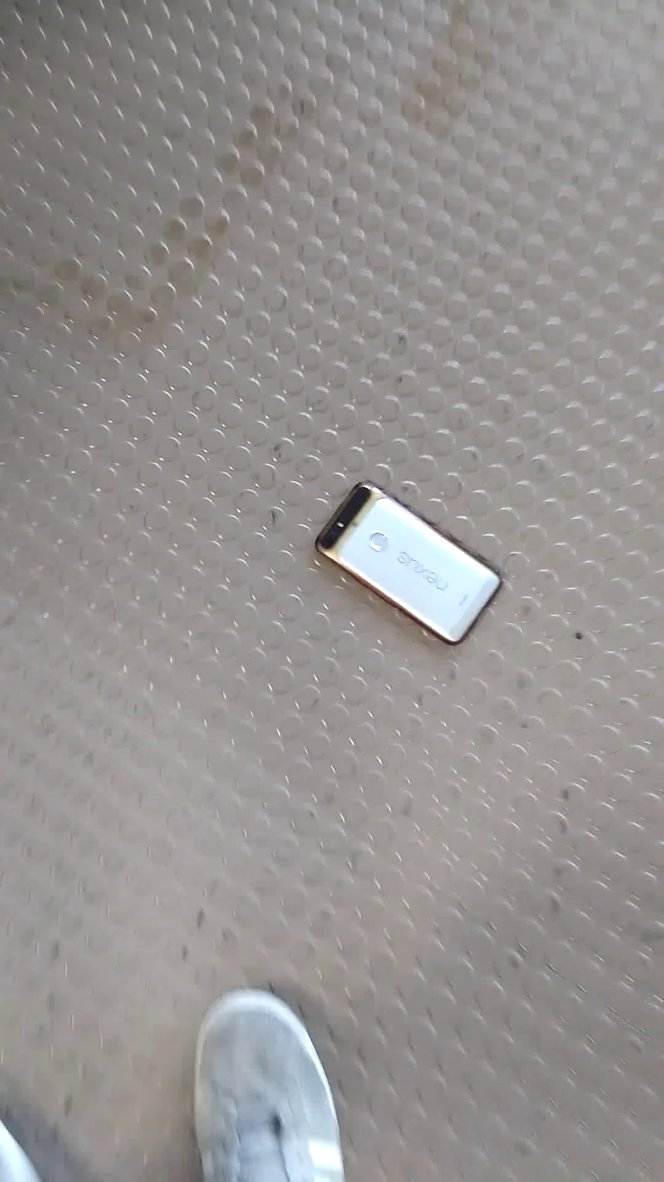phone: (308, 469, 516, 657)
